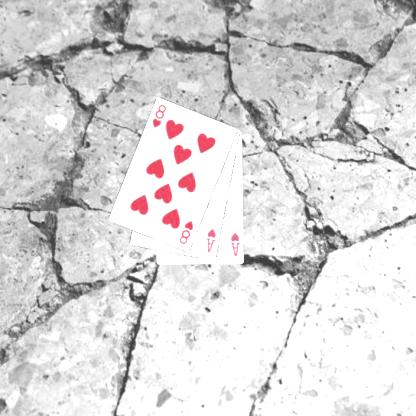8H: (177, 218, 194, 246), (150, 102, 167, 130)
AH: (228, 230, 241, 258), (204, 226, 217, 254)
